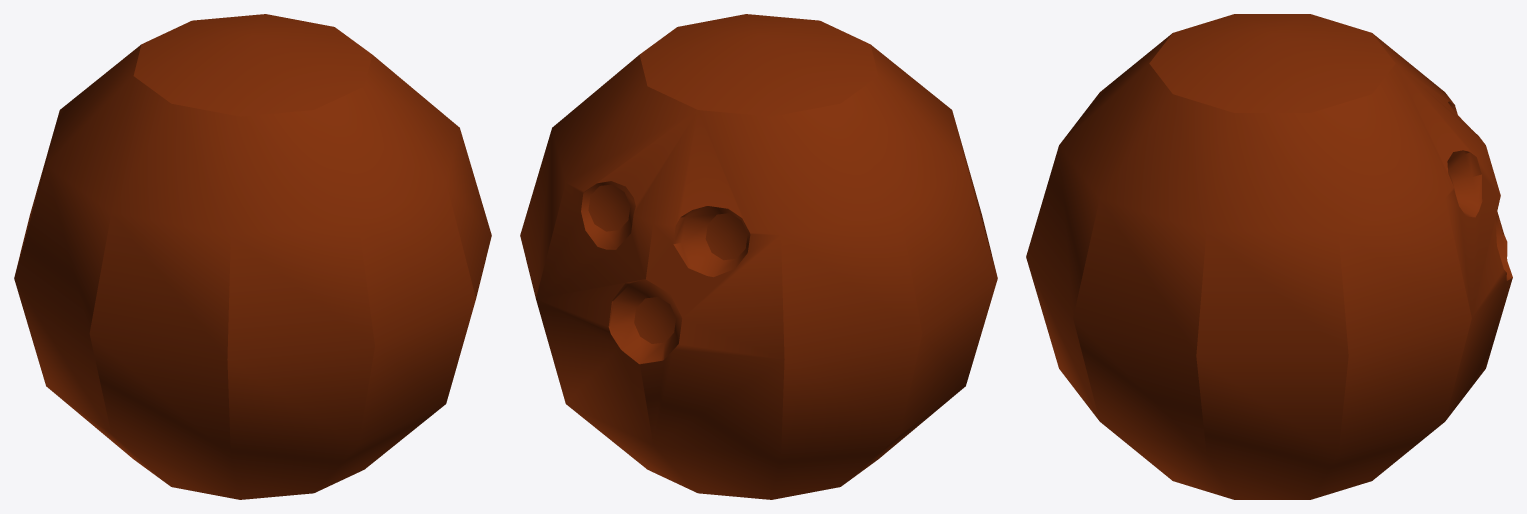
The model's file is Cocoshade.fbx.
3 views of the same model, side by side, from view 1: azimuth 30°, elevation 25°; view 2: azimuth 150°, elevation 25°; view 3: azimuth 270°, elevation 25° (orthographic).
Parts seen in each view (by area): view 1: Sphere; view 2: Sphere; view 3: Sphere.
Part boxes in pixels (box(x1,y1,x2,y2)): Sphere: box(14, 14, 491, 499); Sphere: box(520, 14, 997, 499); Sphere: box(1026, 14, 1512, 499).
Size of the model in its own units: 190 by 200 by 198.
1 material, 1 textured.
